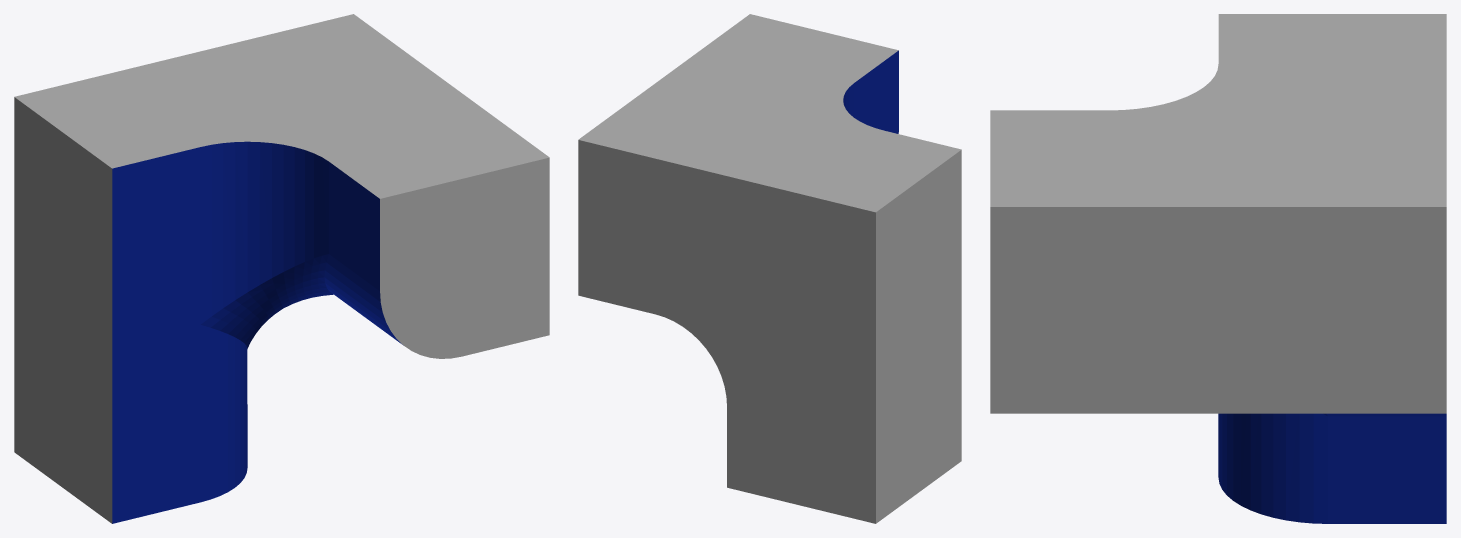
File: case_113.fbx
3 views of the same model, side by side, from view 1: azimuth 30°, elevation 25°; view 2: azimuth 150°, elevation 25°; view 3: azimuth 270°, elevation 25° (orthographic). The views are drawn at different scales.
Parts seen in each view (by area): view 1: case_113; view 2: case_113; view 3: case_113.
Part boxes in pixels (box(x1,y1,x2,y2)): case_113: box(14, 14, 549, 523); case_113: box(578, 14, 961, 523); case_113: box(990, 14, 1446, 523).
Size of the model in its own units: 100 by 100 by 100.
